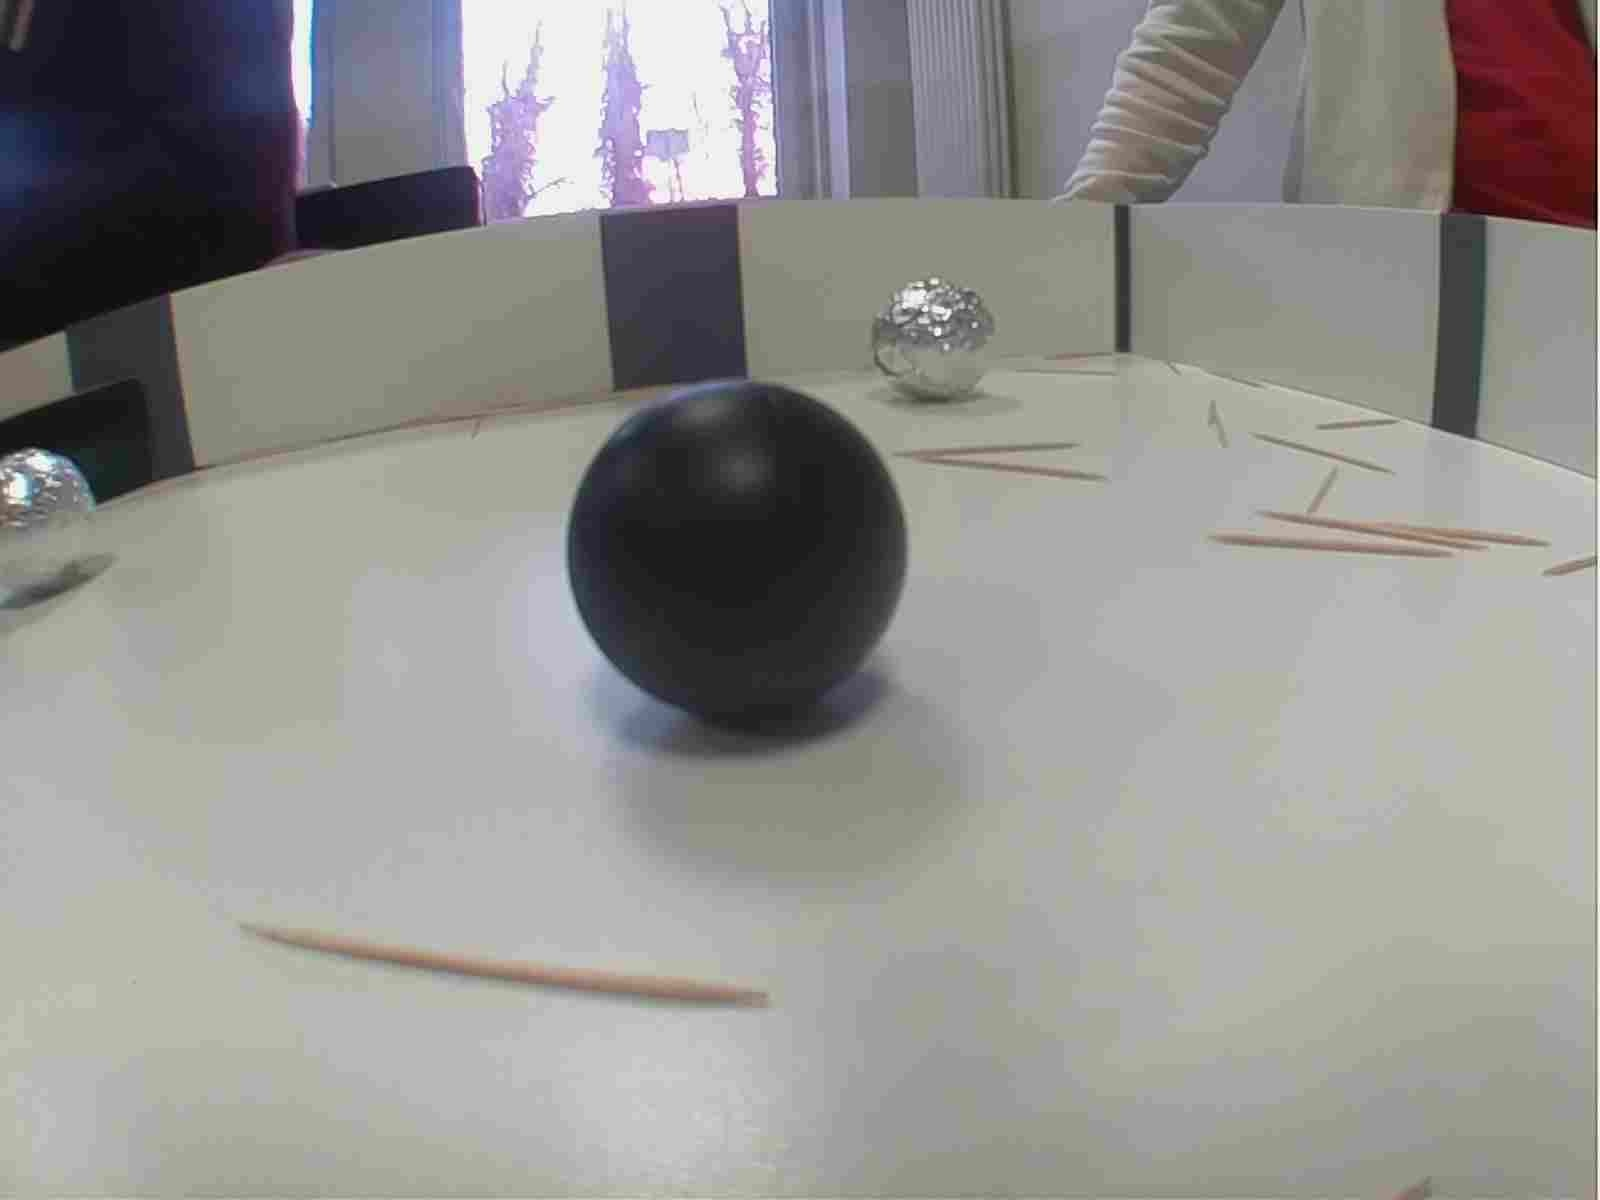bianca: (868, 268, 997, 405), (1, 451, 105, 608)
nera: (576, 376, 918, 731)
